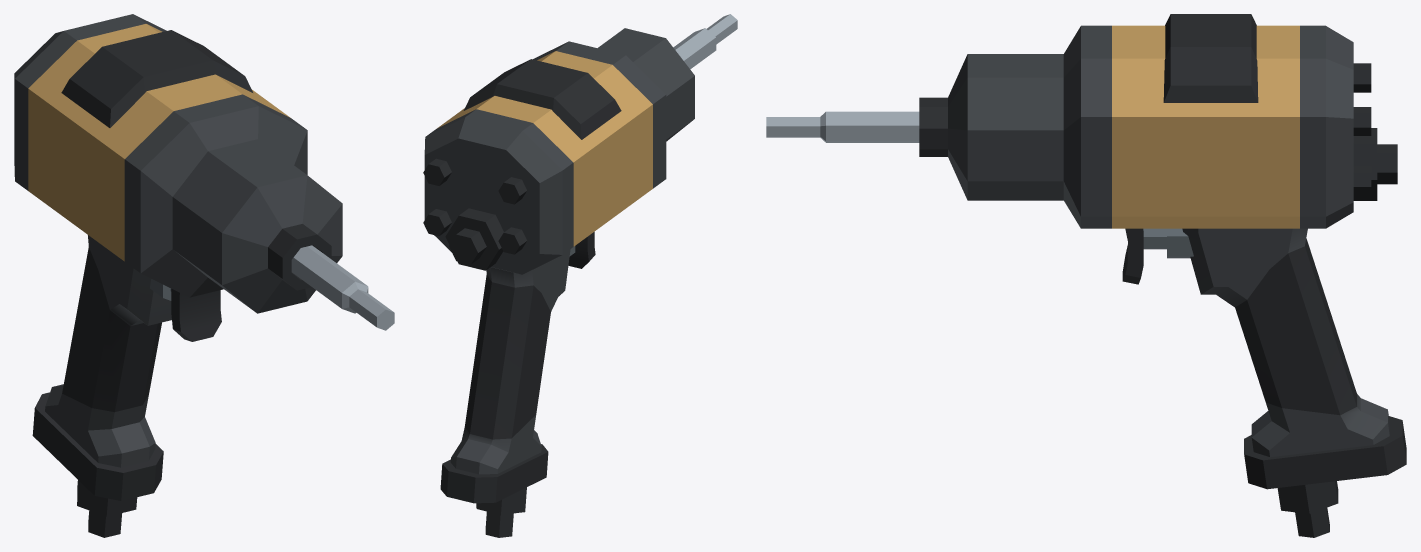
Rendered from SM_Prop_AirDrill_01_Preset.fbx.
3 renders of one model, left to right at view 1: azimuth 30°, elevation 25°; view 2: azimuth 150°, elevation 25°; view 3: azimuth 270°, elevation 25°, orthographic. The views are drawn at different scales.
Visible parts, largest first — view 1: SM_Prop_AirDrill_01_Preset; view 2: SM_Prop_AirDrill_01_Preset; view 3: SM_Prop_AirDrill_01_Preset.
Boxes of the visible parts, <box> form: SM_Prop_AirDrill_01_Preset: <box>14,14,394,537</box>; SM_Prop_AirDrill_01_Preset: <box>423,14,737,537</box>; SM_Prop_AirDrill_01_Preset: <box>766,14,1406,537</box>.
Bounding box in the file's own units: 13.67 × 40.35 × 46.68.
